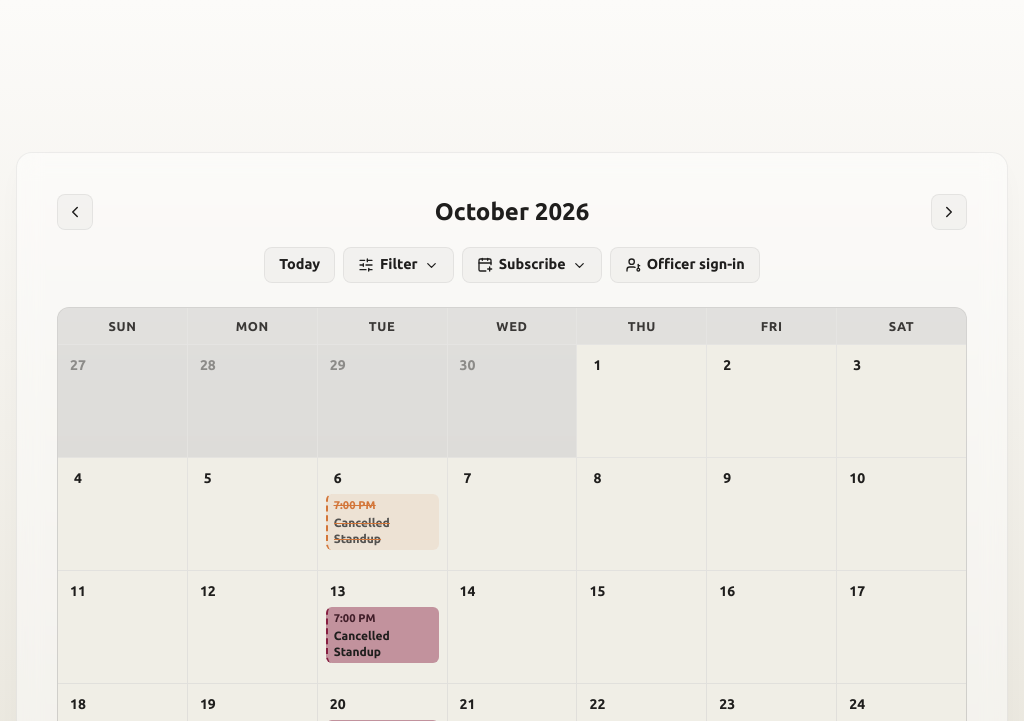
Calendar page › per-occurrence cancellations › shows a cancellation notice in the modal
The width and height of the screenshot is (1024, 721).
Click the button with class "calendar-event--canceled" at (382, 522), box 326,494 -> 439,550
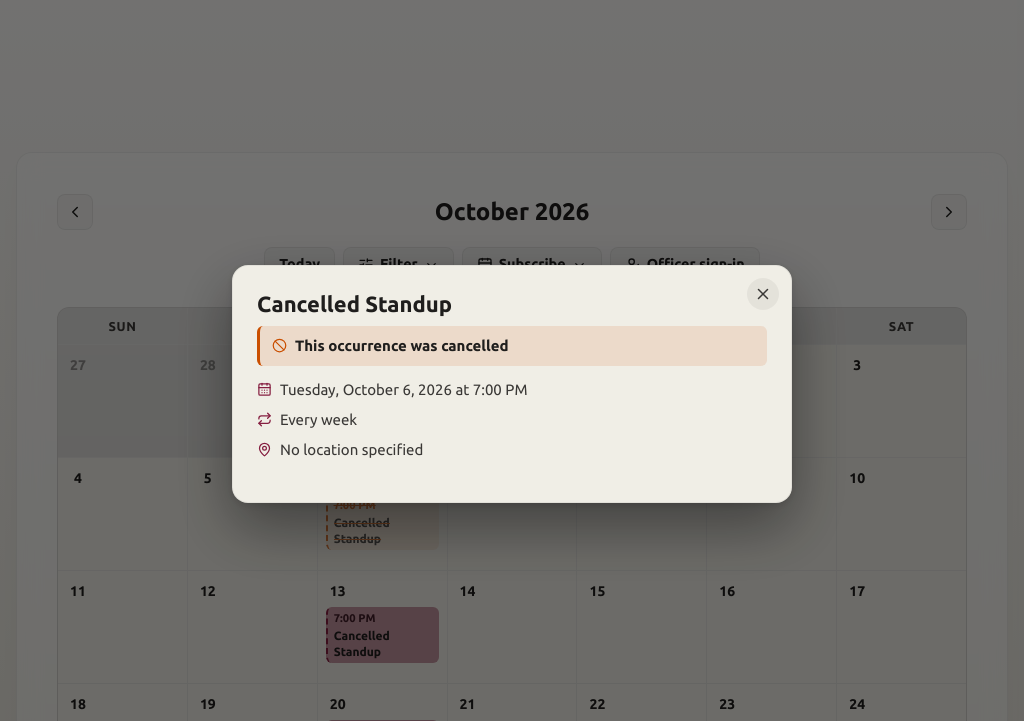
Expected: the text "This occurrence was cancelled" is shown, 257,326 -> 767,366
